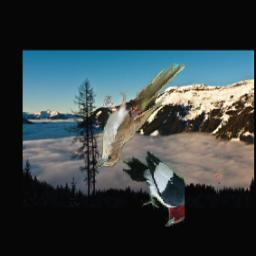Cuckoo: (94, 62, 185, 168)
Woodpecker: (121, 152, 185, 227)
